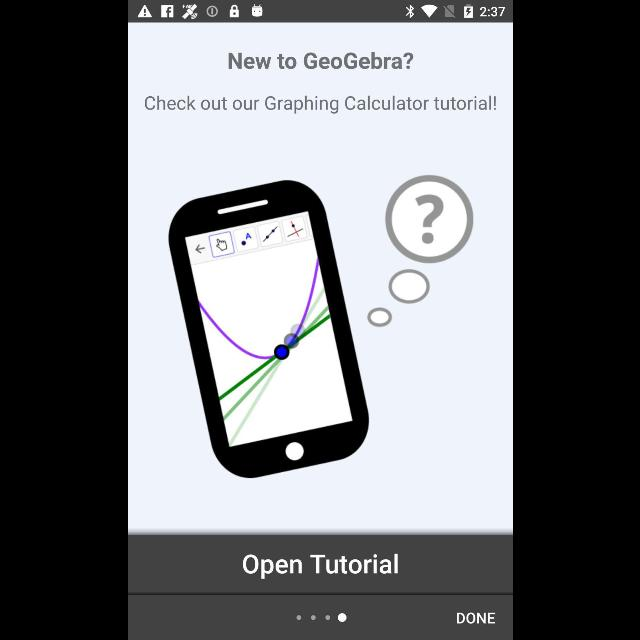image: (167, 175, 473, 480)
pageindicator: (296, 613, 346, 623)
text: (144, 96, 496, 114), (242, 553, 398, 579), (228, 52, 412, 70), (456, 612, 494, 624)
uppertaskbar: (128, 1, 512, 23)
